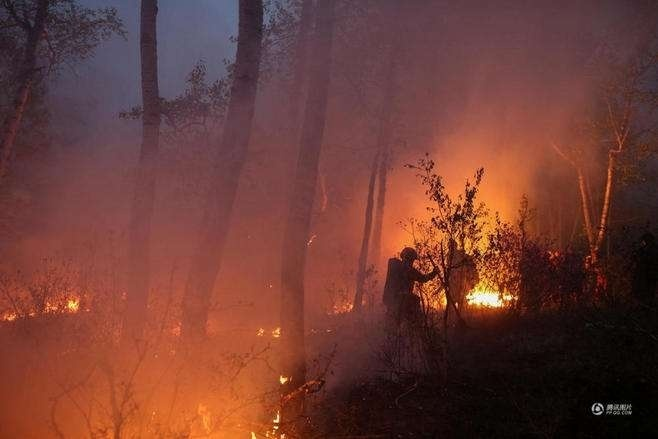fire: (256, 357, 307, 435), (461, 278, 514, 312)
